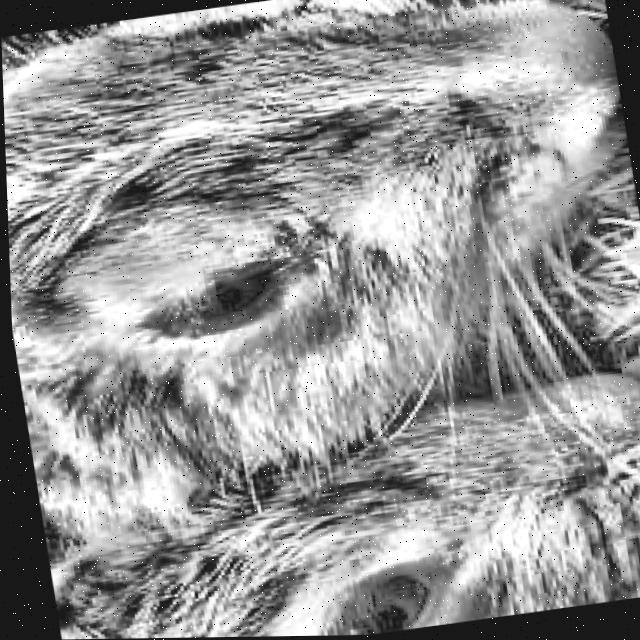rabbit: (0, 0, 640, 640), (19, 315, 640, 640), (0, 0, 603, 61)
